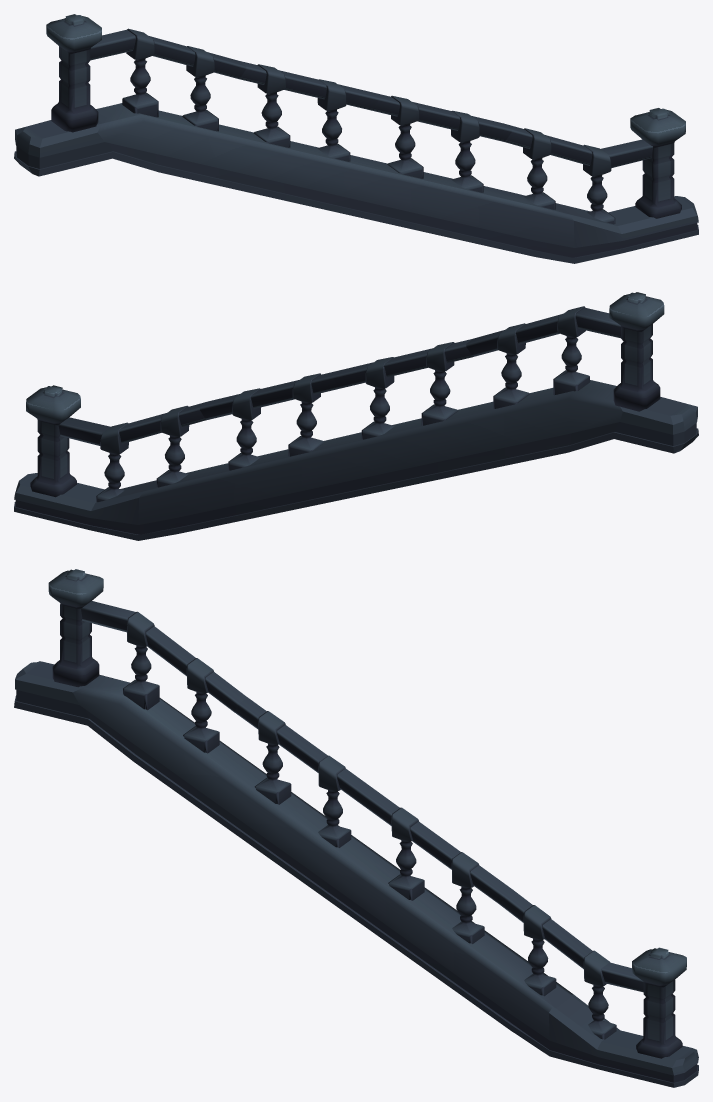
File: Modular_Dungeon_Railing_Full.fbx
3 views of the same model, one above another, from view 1: azimuth 30°, elevation 25°; view 2: azimuth 150°, elevation 25°; view 3: azimuth 330°, elevation 25° (orthographic).
Parts seen in each view (by area): view 1: Railing_Full; view 2: Railing_Full; view 3: Railing_Full.
Boxes of the visible parts, x1,y1,x2,y2 form: Railing_Full: [14, 14, 698, 263]; Railing_Full: [14, 292, 698, 540]; Railing_Full: [14, 569, 698, 1087].
Size of the model in its own units: 16.09 by 8.18 by 1.04.
Materials: 1 (1 with a texture image).
